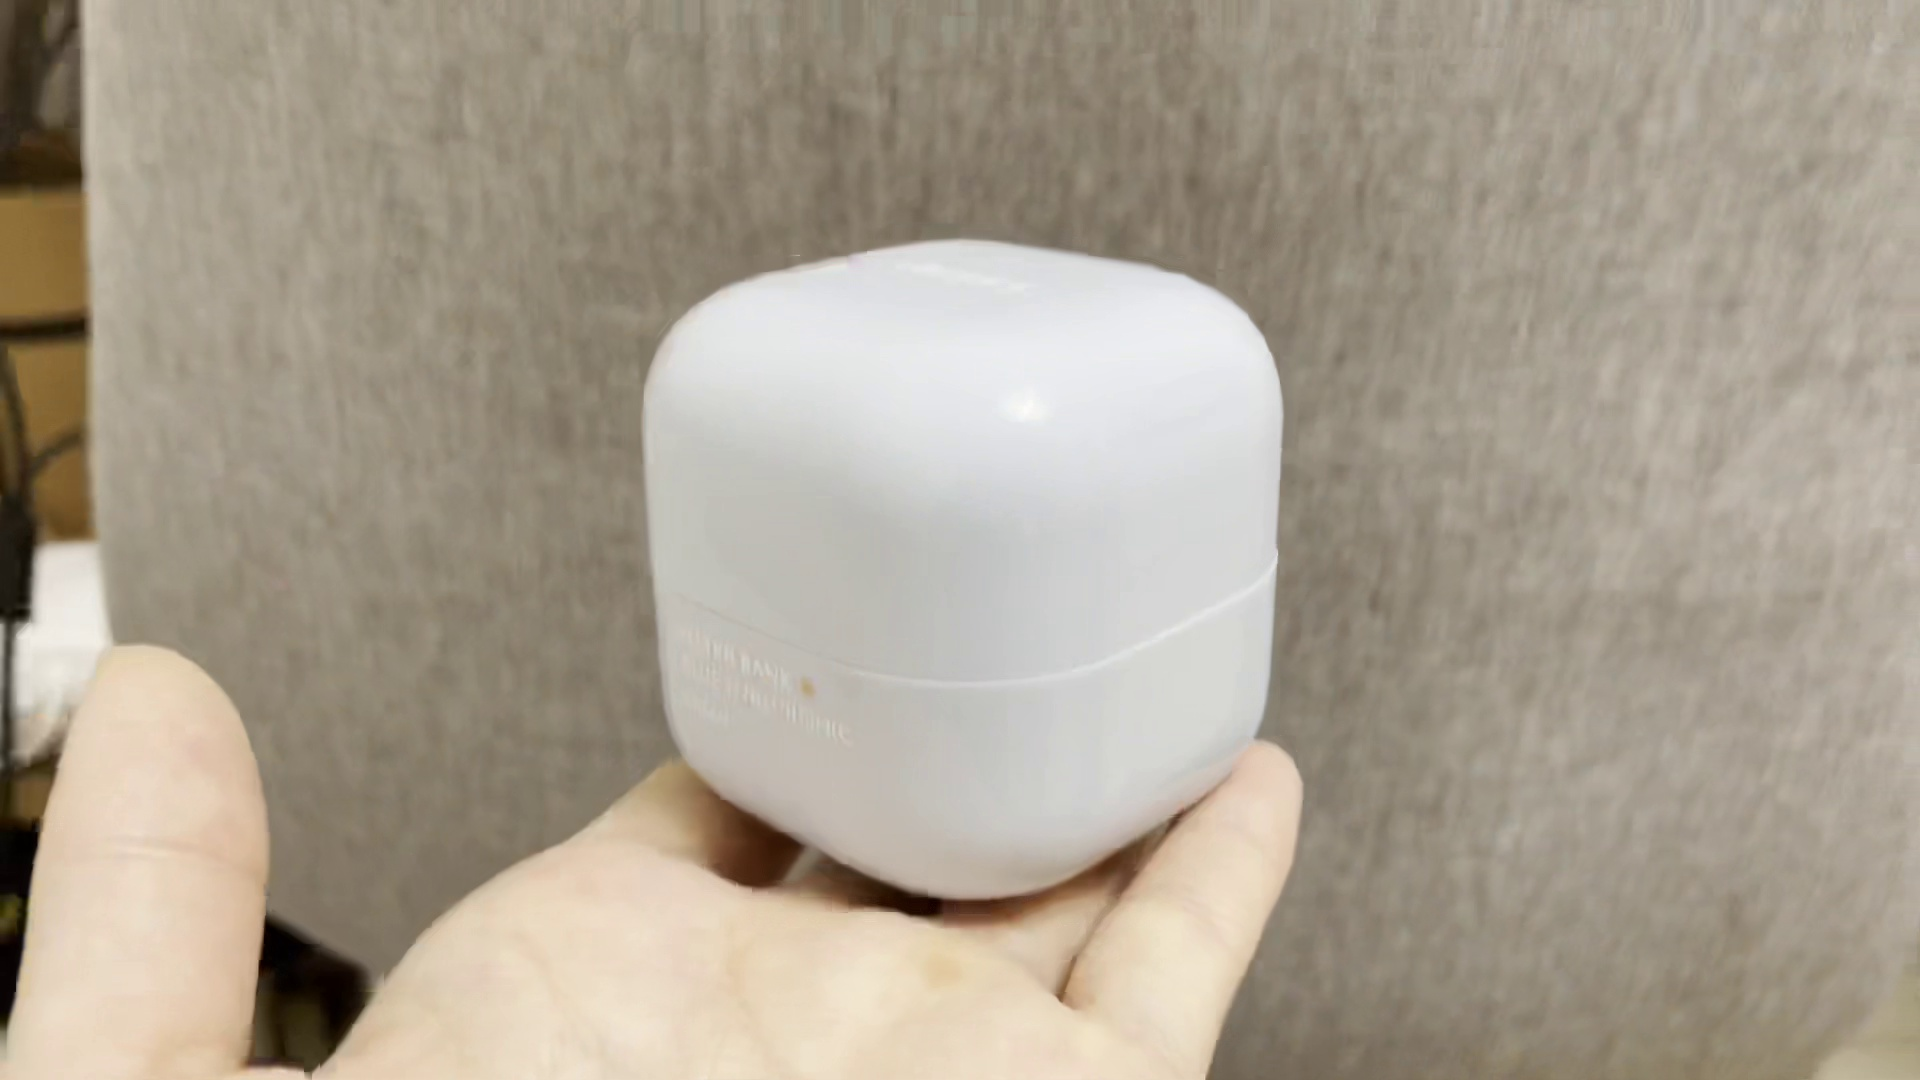cream: (638, 240, 1278, 902)
